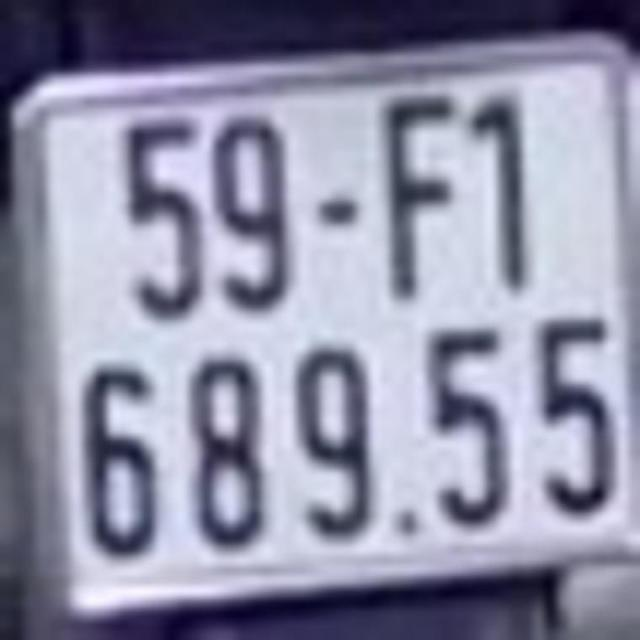1: (471, 85, 535, 292)
5: (424, 321, 514, 529), (119, 112, 207, 322), (536, 311, 619, 518)
6: (80, 358, 160, 558)
8: (190, 352, 265, 549)
9: (211, 109, 293, 316), (292, 339, 375, 540)
F: (380, 89, 460, 301)
